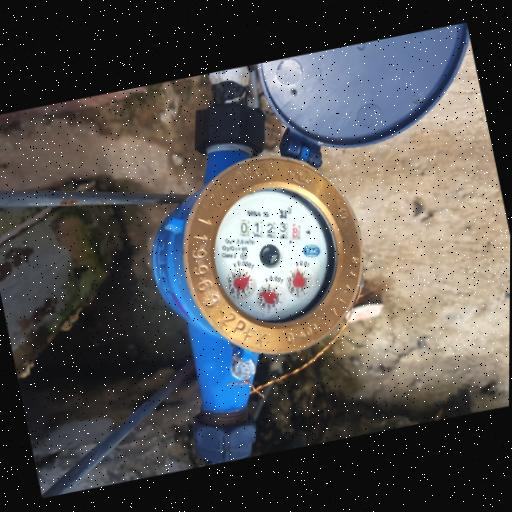0: (236, 218, 251, 237)
1: (249, 219, 264, 239)
2: (263, 219, 278, 239)
3: (275, 220, 290, 240)
8: (288, 221, 303, 242)
border_water_meter_number: (235, 207, 303, 253)
